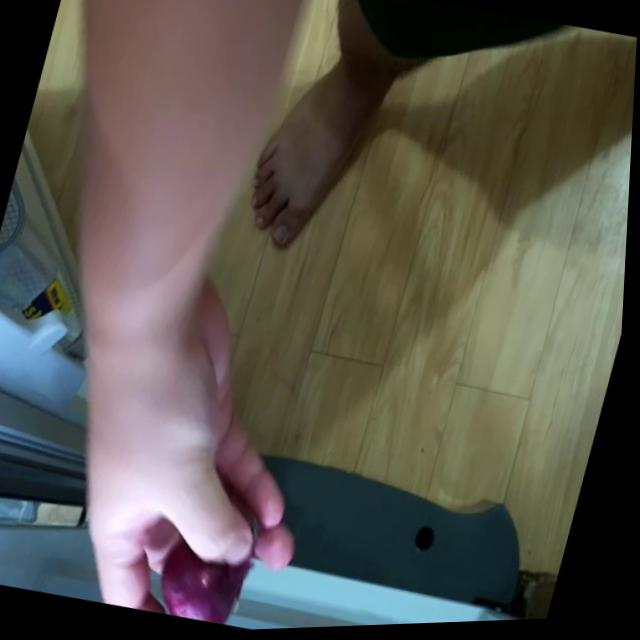onion: (155, 540, 258, 630)
